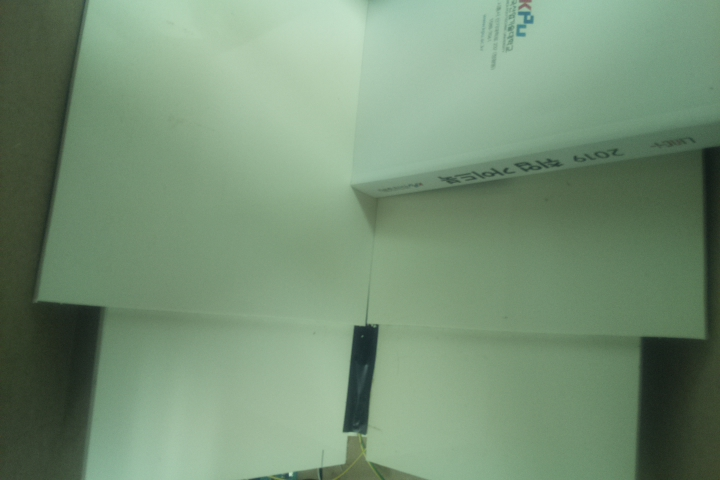book: (348, 1, 720, 202)
